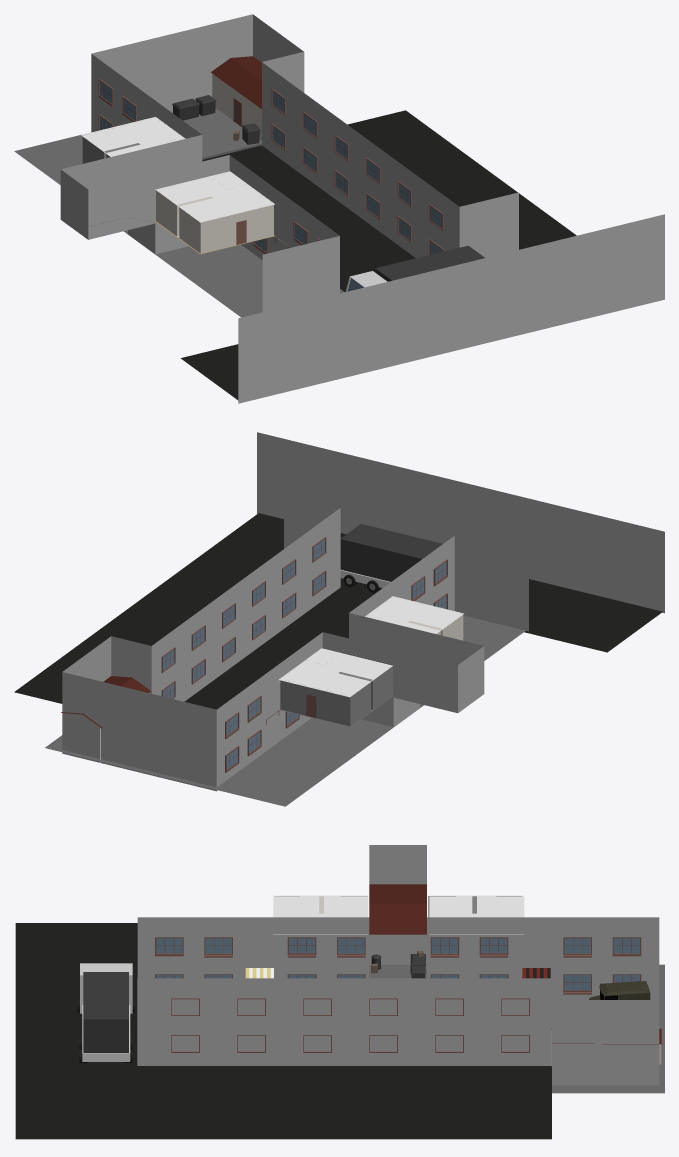
Rendered from samouczek_2.fbx.
3 views of the same model, one above another, from view 1: azimuth 30°, elevation 25°; view 2: azimuth 150°, elevation 25°; view 3: azimuth 270°, elevation 25° (orthographic). The views are drawn at different scales.
Visible parts, largest first — view 1: alejka, droga, podloga_L.001, sciany_L, Okna_alejka, sciana, auto, Okna_R; view 2: alejka, droga, podloga_L.001, auto, sciany_R, Okna_alejka, Okna_R, okna_L; view 3: alejka, droga, auto, podloga_L.001, dach, Okna_R, okna_L, Okna_alejka, okna_m_R, auto.0, okna_m_L.
Boxes of the visible parts, box(x1,y1,x2,y2) form: alejka: box(60, 14, 664, 403); droga: box(14, 108, 576, 400); podloga_L.001: box(81, 117, 274, 222); sciany_L: box(156, 190, 273, 253); Okna_alejka: box(271, 88, 443, 254); sciana: box(211, 56, 261, 141); auto: box(345, 245, 484, 291); Okna_R: box(98, 79, 136, 130); alejka: box(62, 432, 664, 791); droga: box(14, 513, 662, 806); podloga_L.001: box(278, 596, 463, 697); auto: box(340, 524, 442, 592); sciany_R: box(280, 652, 392, 726); Okna_alejka: box(161, 537, 326, 698); Okna_R: box(225, 695, 261, 772); okna_L: box(411, 559, 447, 609); alejka: box(137, 845, 659, 1085); droga: box(15, 923, 664, 1139); auto: box(77, 963, 134, 1063); podloga_L.001: box(273, 895, 524, 934); dach: box(369, 884, 426, 934); Okna_R: box(563, 937, 641, 994); okna_L: box(155, 937, 232, 978); Okna_alejka: box(171, 998, 529, 1052); okna_m_R: box(430, 937, 508, 978); auto.0: box(589, 981, 649, 999); okna_m_L: box(287, 937, 365, 978).
Size of the model in its own units: 4584 by 3634 by 695.
